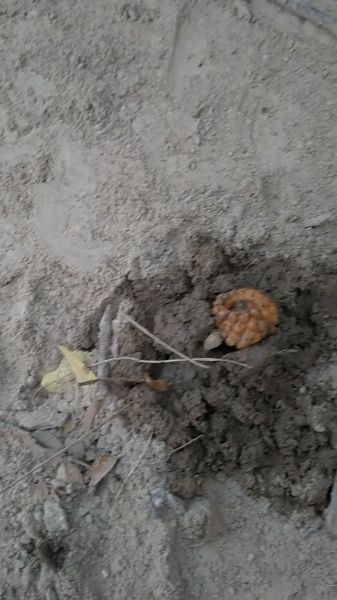eggs: (205, 284, 283, 349)
